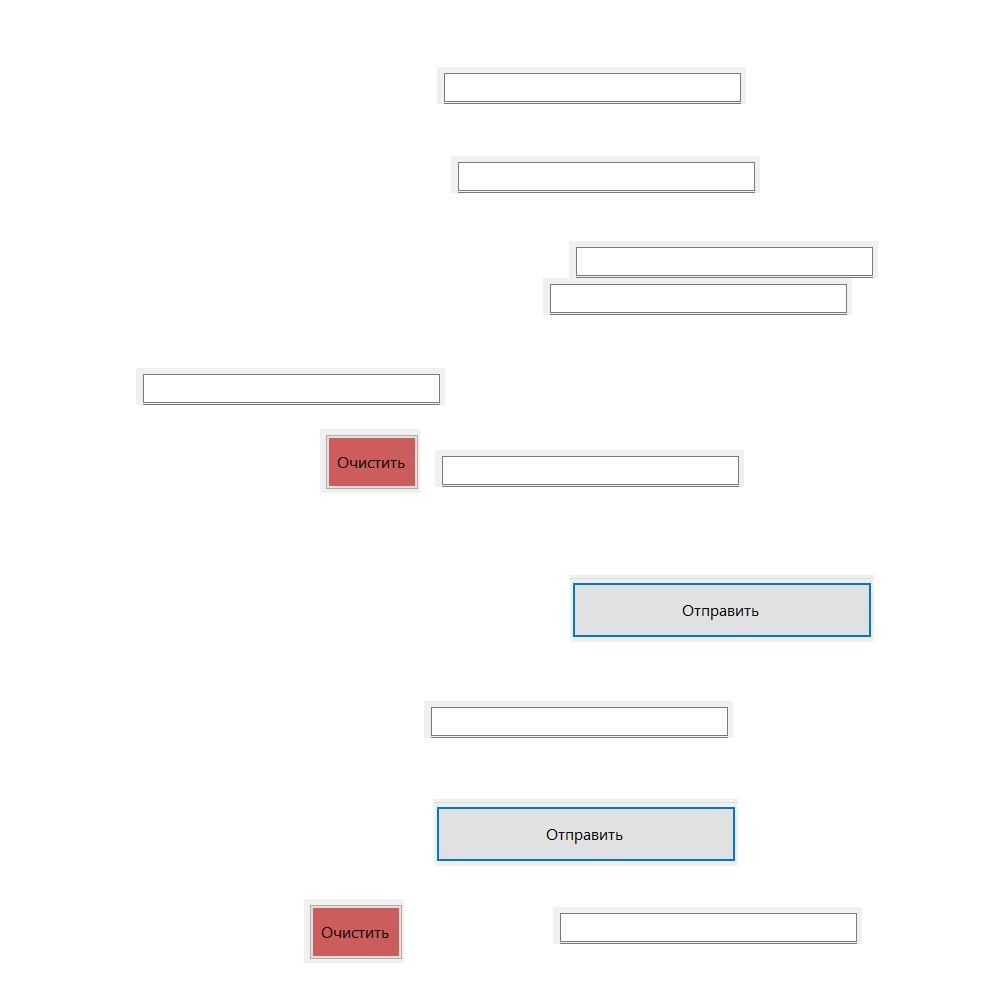Button: (434, 799, 738, 866), (570, 575, 874, 642), (320, 429, 420, 493), (304, 899, 404, 963)
EditText-: (569, 241, 878, 278), (437, 67, 746, 104), (424, 701, 733, 738), (136, 368, 445, 405), (543, 278, 852, 315), (435, 450, 744, 487), (451, 156, 760, 193), (553, 907, 862, 944)
